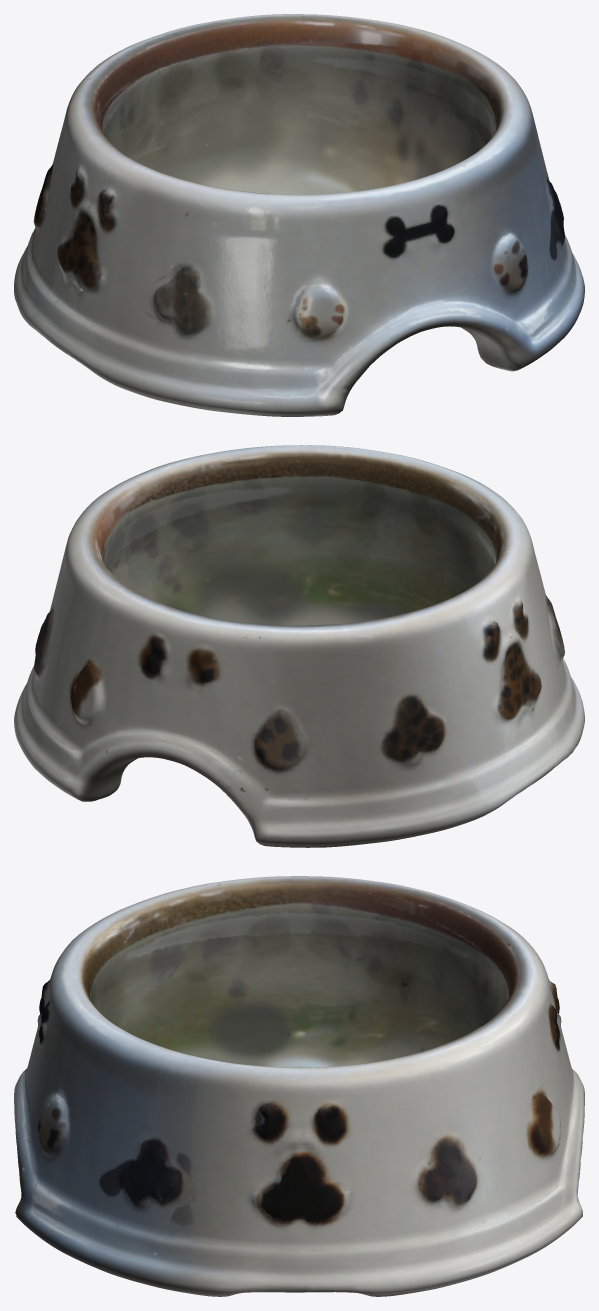
File: Bowl3.fbx
3 views of the same model, one above another, from view 1: azimuth 30°, elevation 25°; view 2: azimuth 150°, elevation 25°; view 3: azimuth 270°, elevation 25° (orthographic). The views are drawn at different scales.
Visible parts, largest first — view 1: glass; view 2: glass; view 3: glass.
Part boxes in pixels (left/top/right/bottom): glass: left=14, top=14, right=584, bottom=416; glass: left=14, top=445, right=584, bottom=847; glass: left=14, top=876, right=584, bottom=1296.
Bounding box in the file's own units: 200 × 77.15 × 191.
1 material, 1 textured.
